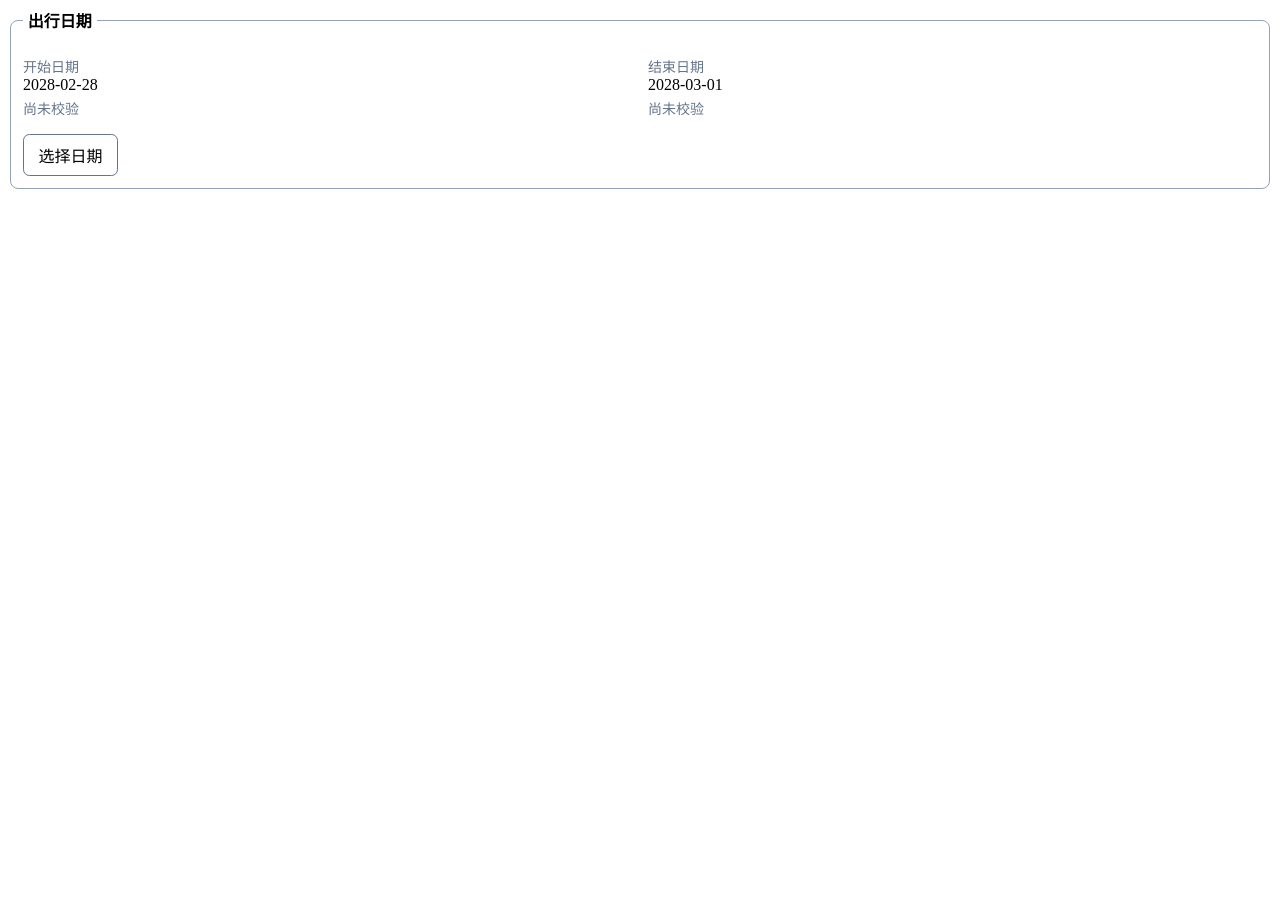
Scenario: does not attempt the second write when the first one fails
This screenshot has width=1280, height=900.
Step 1. Click the button "选择日期" → (70,155), box [23,134,118,176]
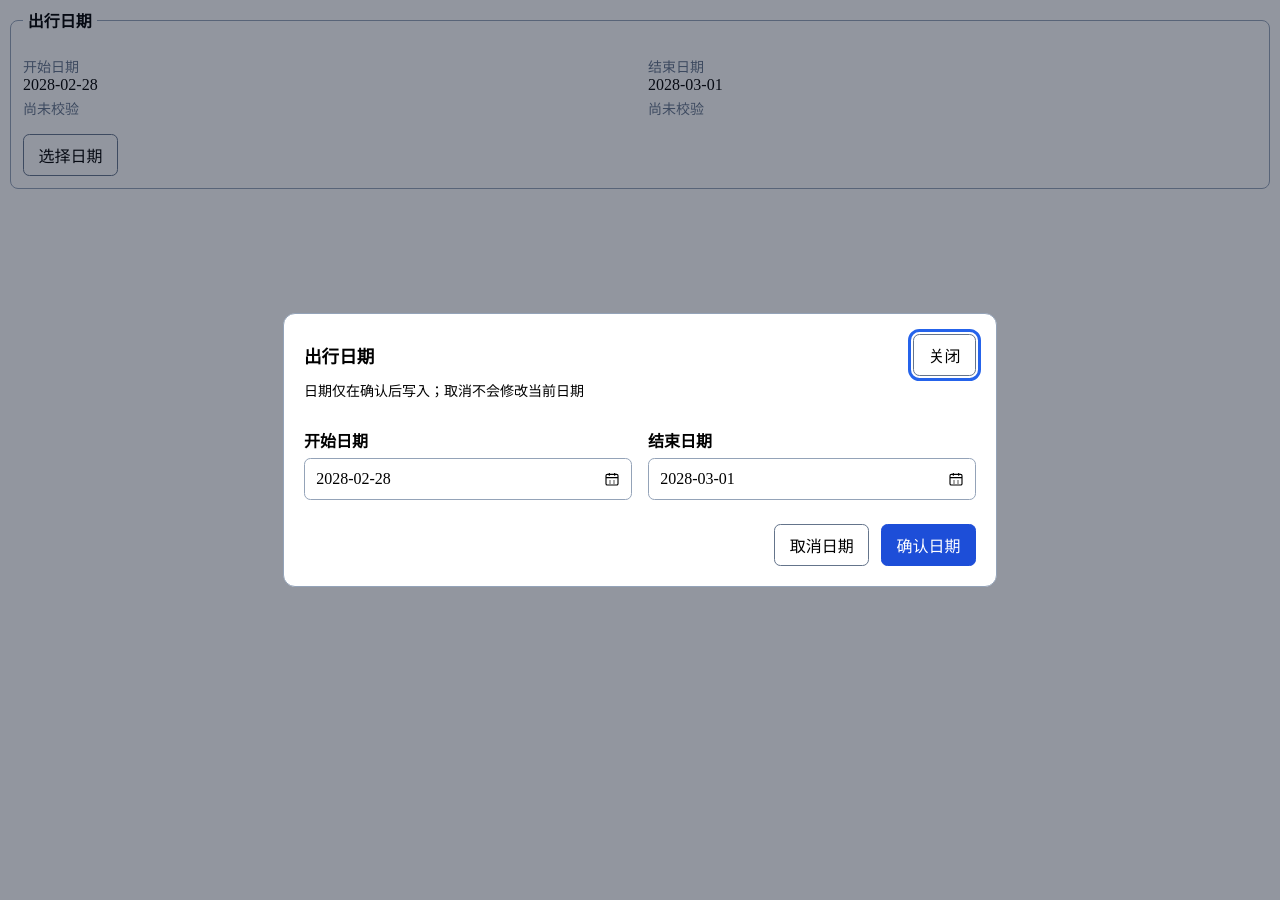
Step 2. Click the button "确认日期" → (929,545), box [881,524,976,566]
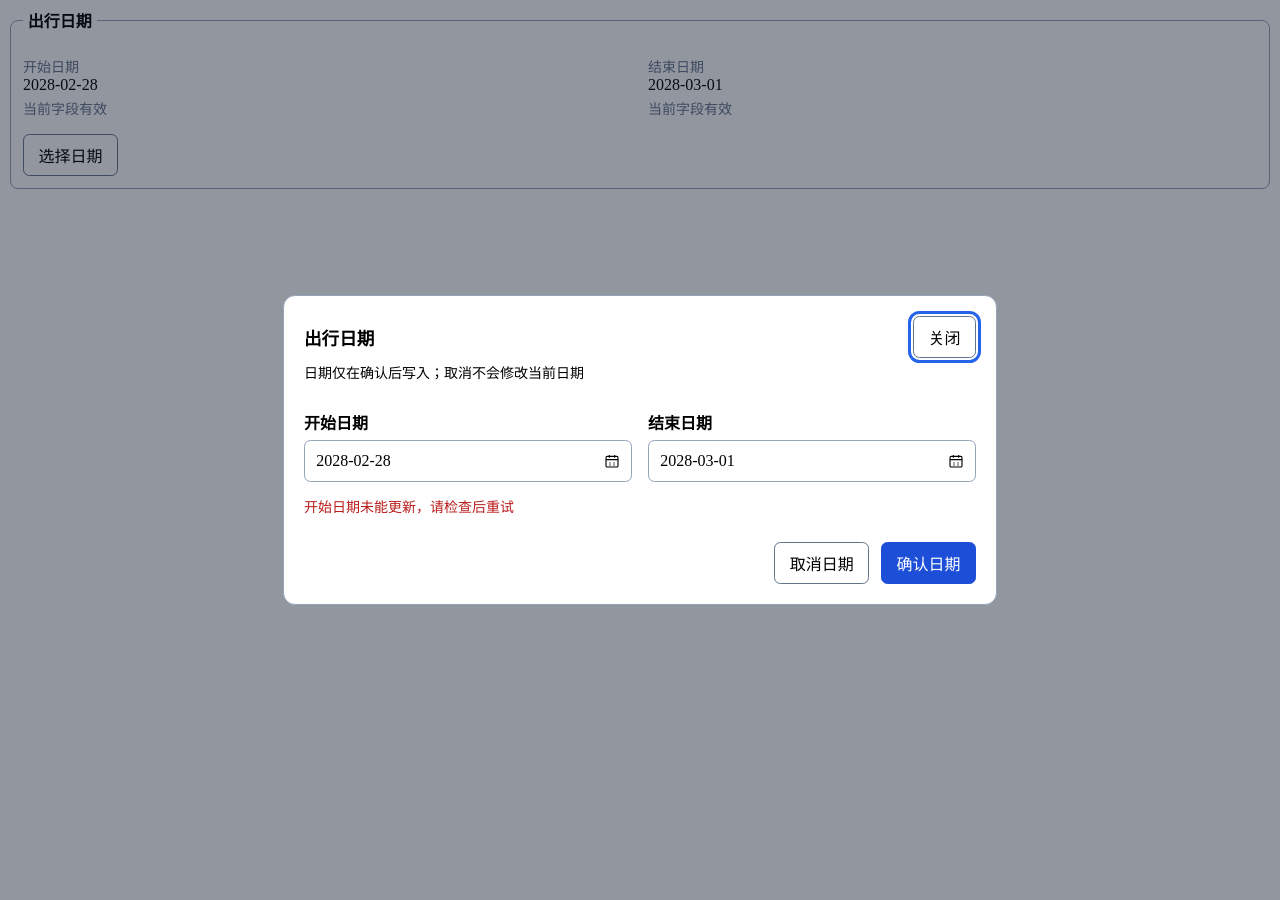
Now the dialog "出行日期" is shown, box [283,295,997,605]
Now the message shows "开始日期未能更新", box [304,500,514,515]
